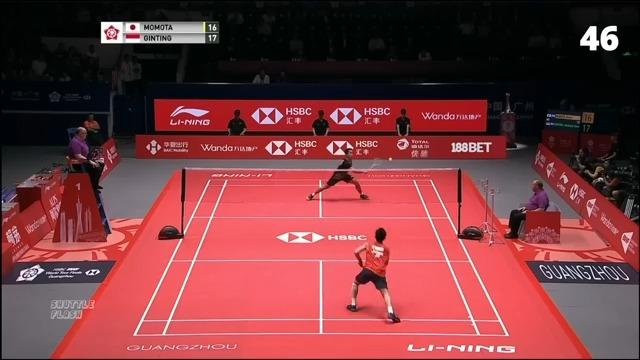Shuttlecock: (387, 155, 395, 163)
